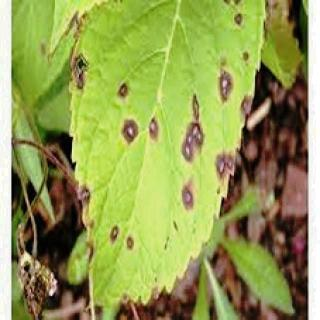leaf spot: (72, 48, 254, 294)
